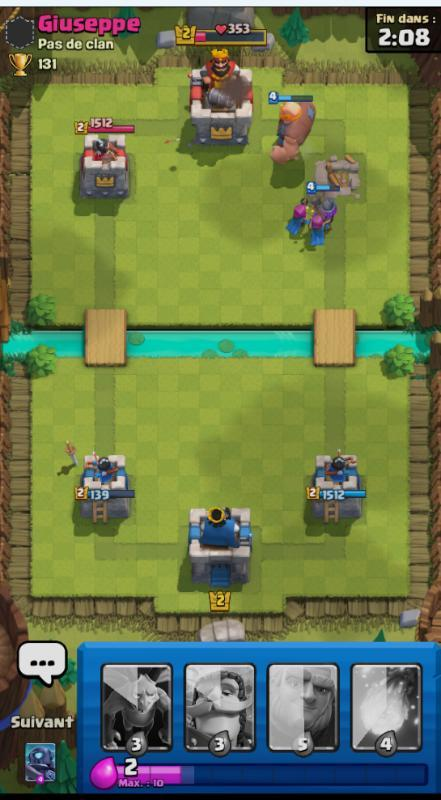enemy_musketeer: (311, 186, 339, 216)
player_archers: (281, 197, 310, 240), (305, 211, 330, 249)
player_giant: (266, 95, 319, 168)
